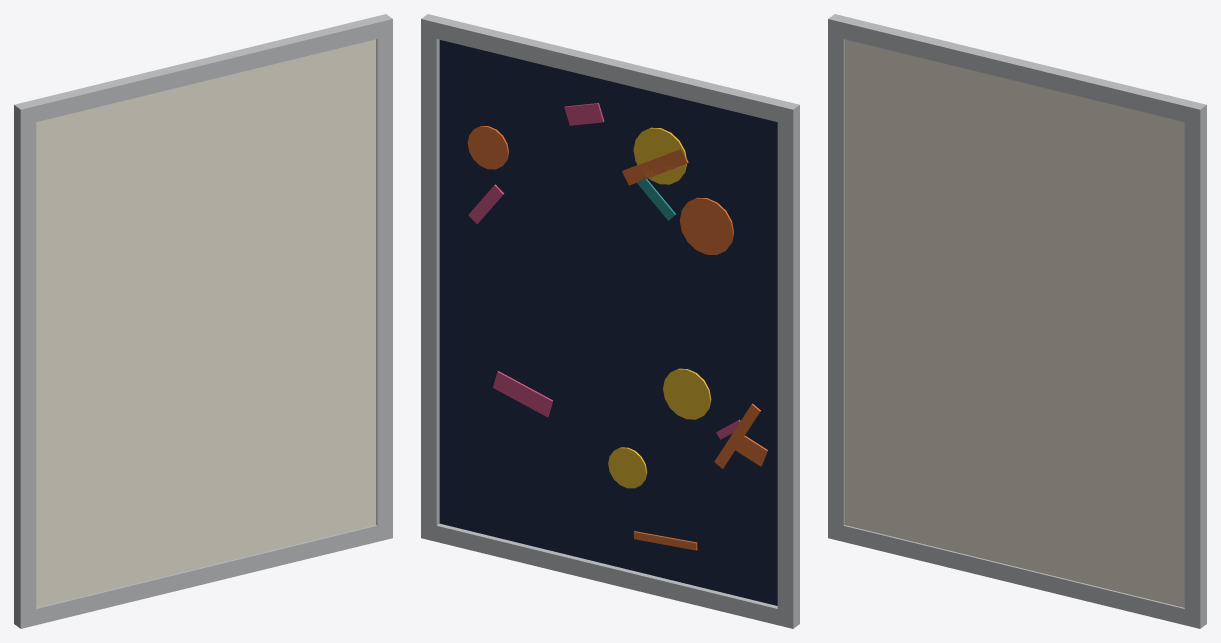
Rendered from SM_80s_Poster_Memphis.glb.
3 views of the same model, side by side, from view 1: azimuth 30°, elevation 25°; view 2: azimuth 150°, elevation 25°; view 3: azimuth 330°, elevation 25° (orthographic).
Visible parts, largest first — view 1: SM_80s_Poster_Memphis; view 2: SM_80s_Poster_Memphis; view 3: SM_80s_Poster_Memphis.
Boxes of the visible parts, x1,y1,x2,y2 form: SM_80s_Poster_Memphis: (14, 14, 392, 628); SM_80s_Poster_Memphis: (421, 14, 799, 628); SM_80s_Poster_Memphis: (828, 14, 1206, 628).
Size of the model in its own units: 0.792 by 1.06 by 0.025.
